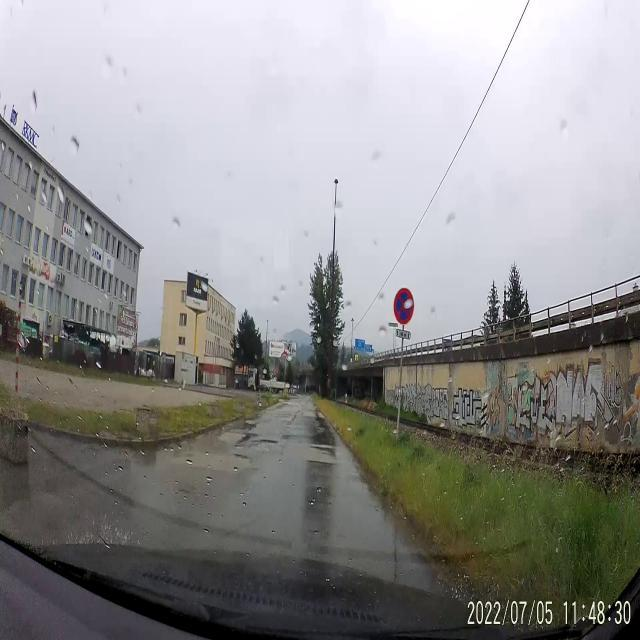Pothole: (251, 434, 279, 455), (308, 442, 336, 456), (306, 457, 334, 468), (232, 452, 250, 464), (240, 422, 257, 431), (232, 441, 245, 449), (290, 412, 297, 424), (282, 432, 290, 442), (240, 434, 250, 441)
